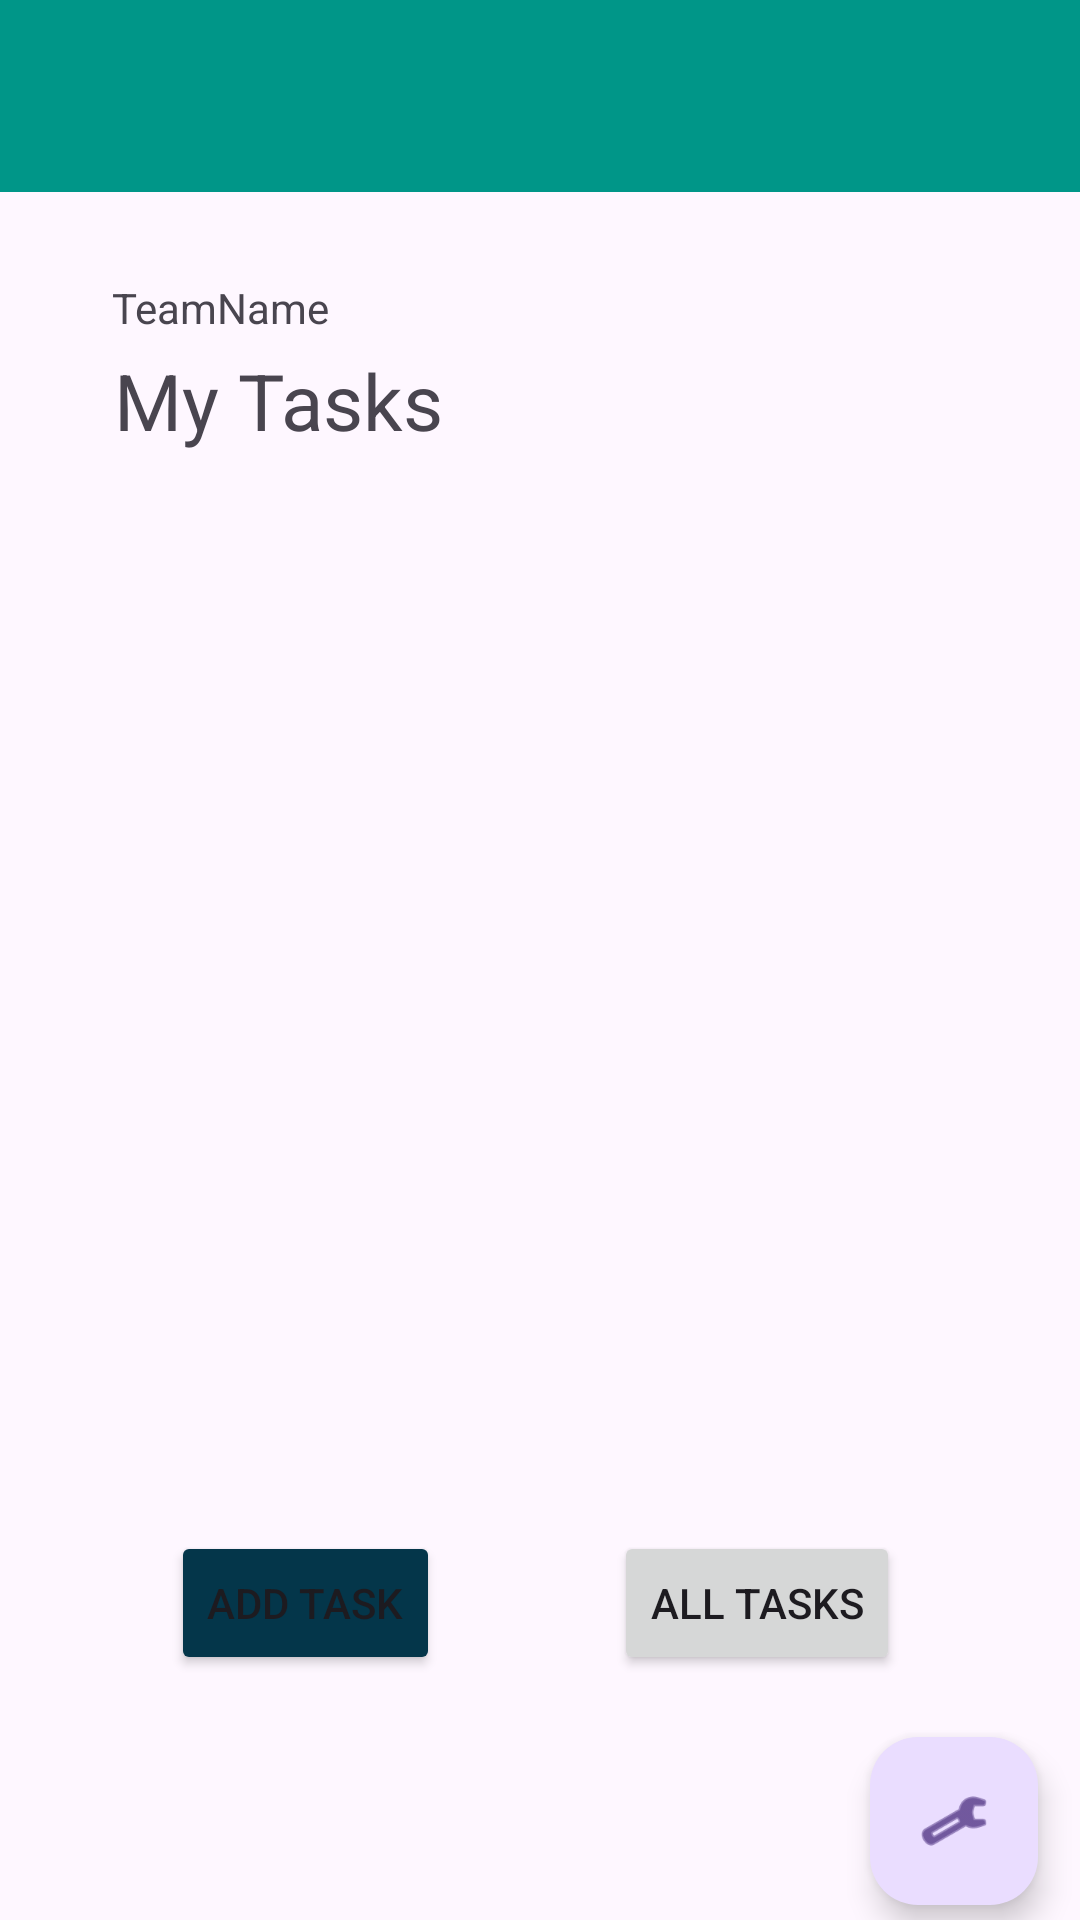

Where icons sit on this 1080 × 1920 app screen, as [left=x1, top=y1, right=x2, bottom=y2]:
Settings: [left=870, top=1737, right=1038, bottom=1905]
